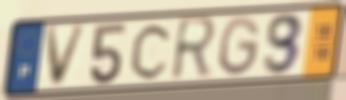5: (88, 20, 129, 87)
9: (261, 11, 307, 77)
C: (128, 21, 175, 82)
G: (217, 14, 263, 79)
R: (169, 13, 221, 85)
V: (44, 22, 90, 90)
